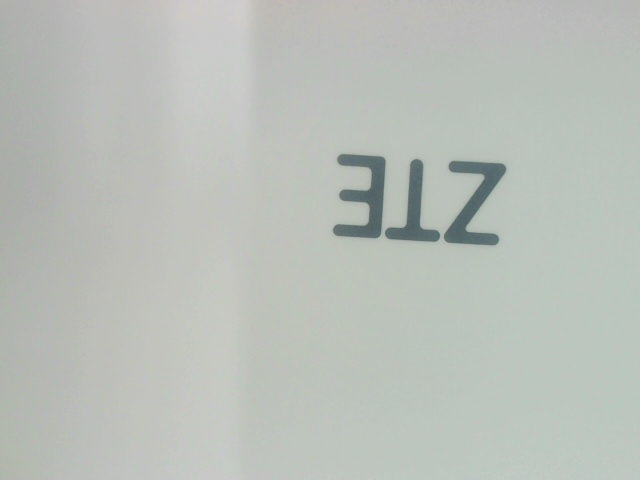AN_ZTELarge: (309, 136, 545, 253)
